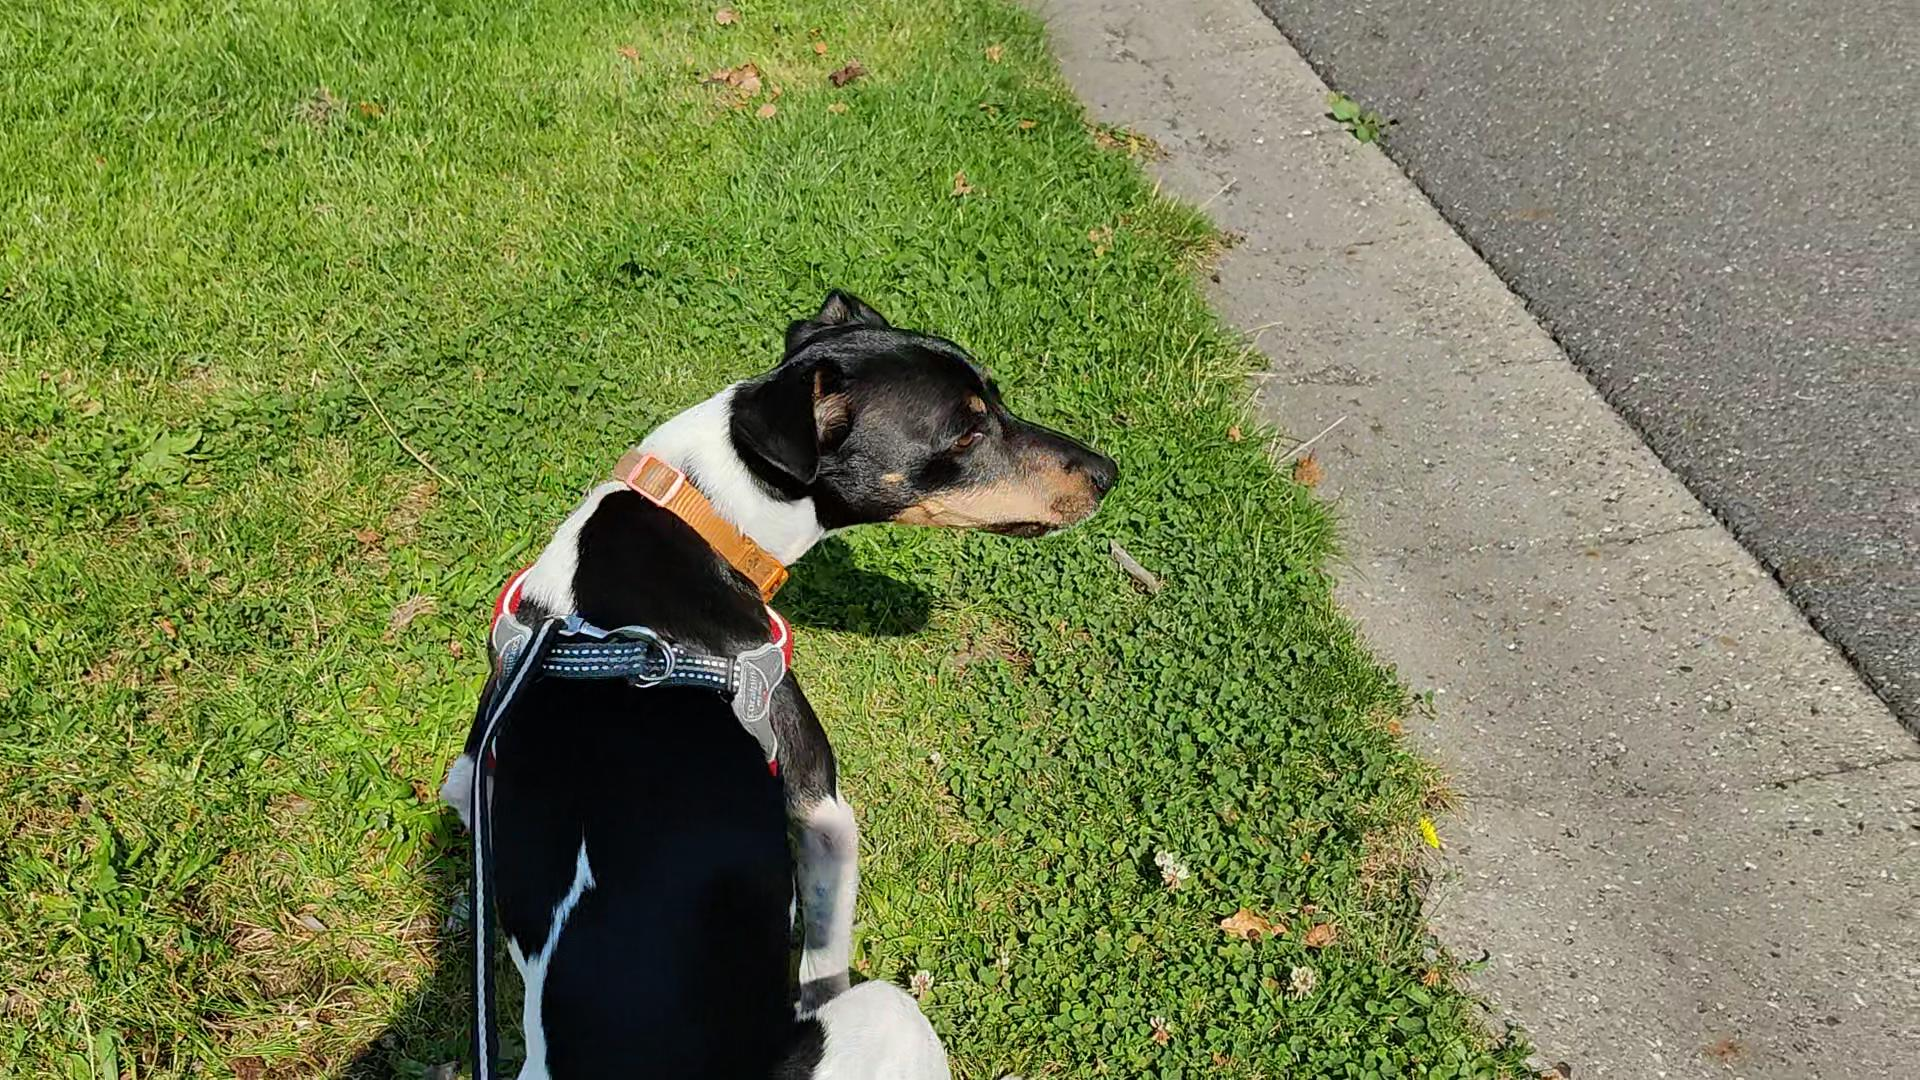Dog: (423, 281, 1125, 1079)
